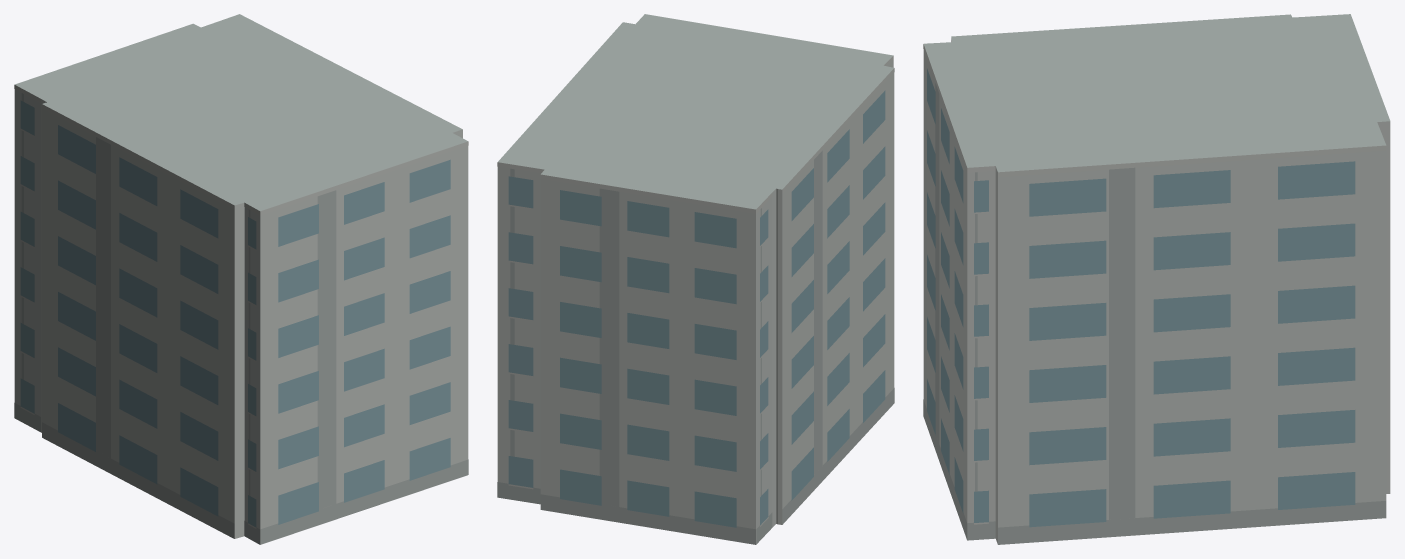
File: survey-upis-32832575.glb
3 renders of one model, left to right at view 1: azimuth 30°, elevation 25°; view 2: azimuth 150°, elevation 25°; view 3: azimuth 270°, elevation 25°, orthographic. The views are drawn at different scales.
Parts seen in each view (by area): view 1: survey-upis-32832575.tmp; view 2: survey-upis-32832575.tmp; view 3: survey-upis-32832575.tmp.
Part boxes in pixels (x1,y1,x2,y2): survey-upis-32832575.tmp: (14, 14, 468, 544); survey-upis-32832575.tmp: (497, 14, 894, 544); survey-upis-32832575.tmp: (923, 14, 1390, 544).
Bounding box in the file's own units: 16.82 × 18.45 × 20.97.
